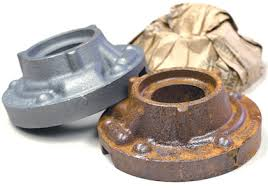rust: (97, 70, 261, 182)
